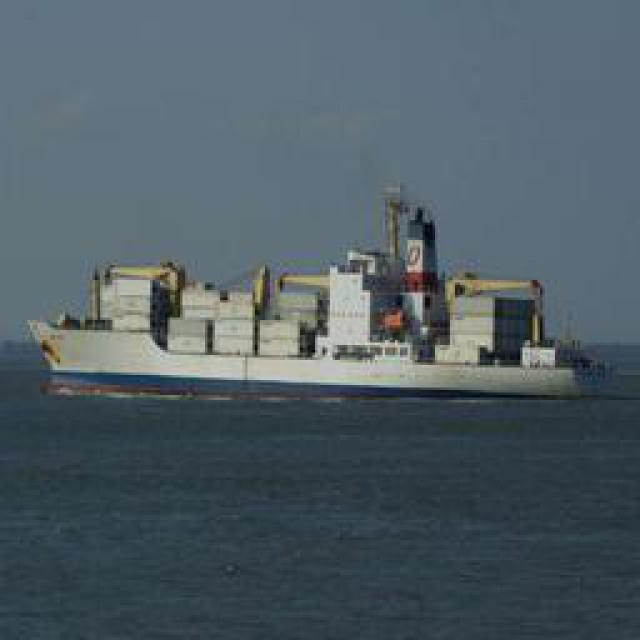Ship: (37, 199, 617, 399)
